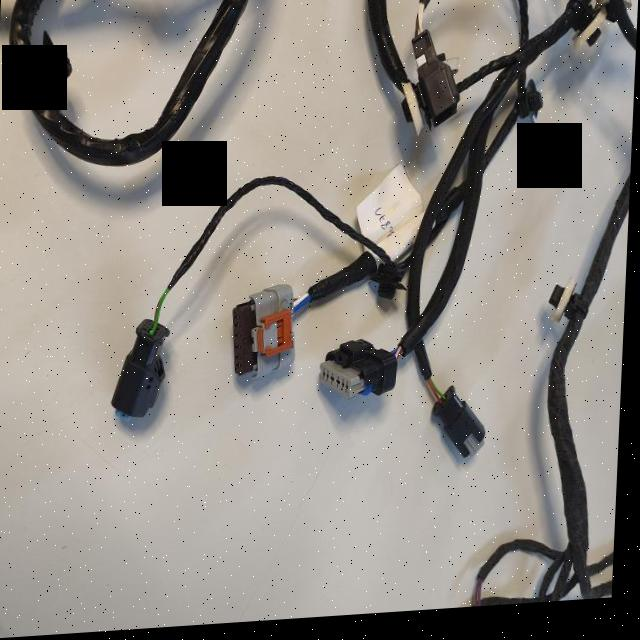cable: (9, 0, 249, 167), (545, 180, 633, 609), (156, 180, 393, 326), (368, 0, 410, 96), (310, 258, 381, 306), (515, 0, 528, 52), (416, 0, 432, 38)
clip: (38, 33, 72, 99), (574, 4, 606, 55), (551, 290, 585, 329), (402, 90, 424, 140), (517, 90, 543, 126)
connector: (115, 322, 171, 419), (237, 289, 296, 381), (325, 345, 400, 401), (438, 396, 489, 464)
label: (358, 171, 425, 264)
